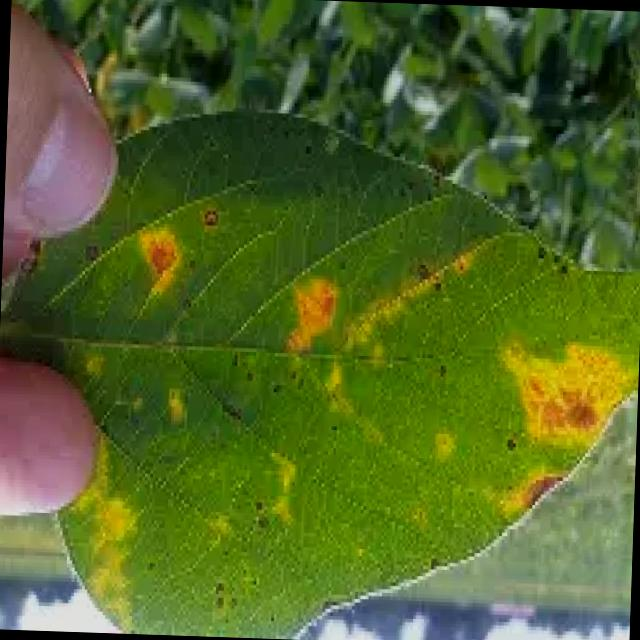leaf_spot: (0, 112, 639, 639)
